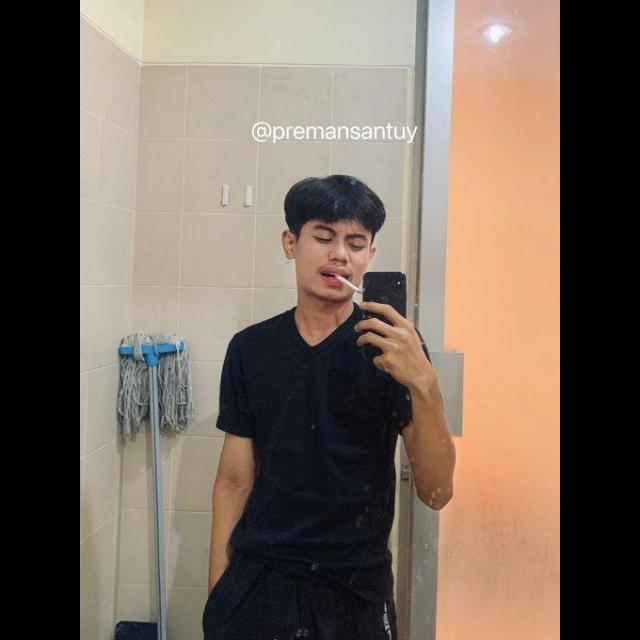rokok: (333, 269, 363, 295)
